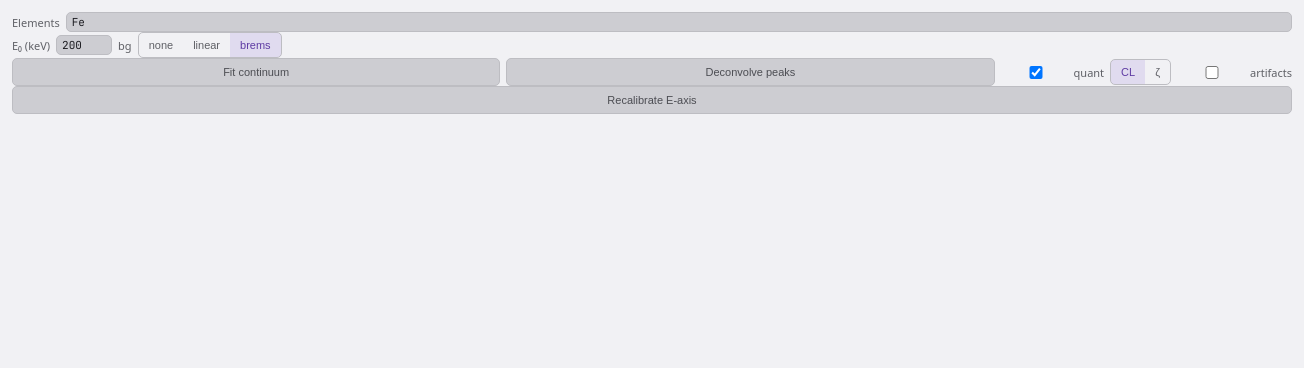
it: EdsModelFit › flags a non-converged fit in the same readout
Click the button "Deconvolve peaks" at (750, 72), box x1=506 y1=58 x2=995 y2=86
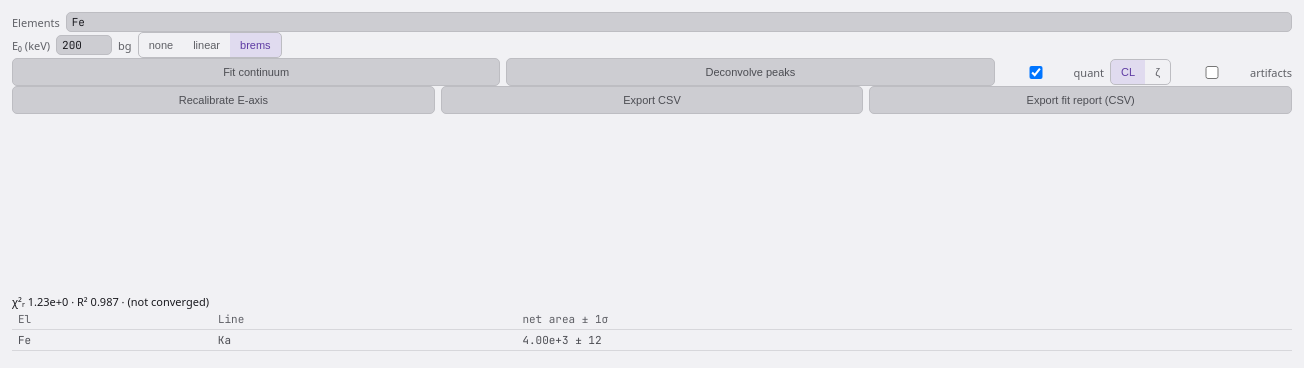
Check: the text "χ²ᵣ 1.23e+0 · R² 0.987 · (not converged)" is shown, box x1=12 y1=294 x2=209 y2=309
